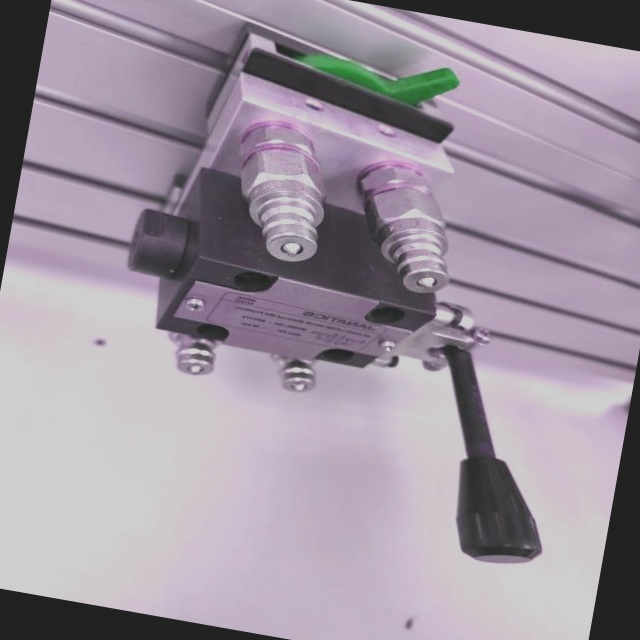4by3 hand lever valve: (72, 0, 640, 586)
